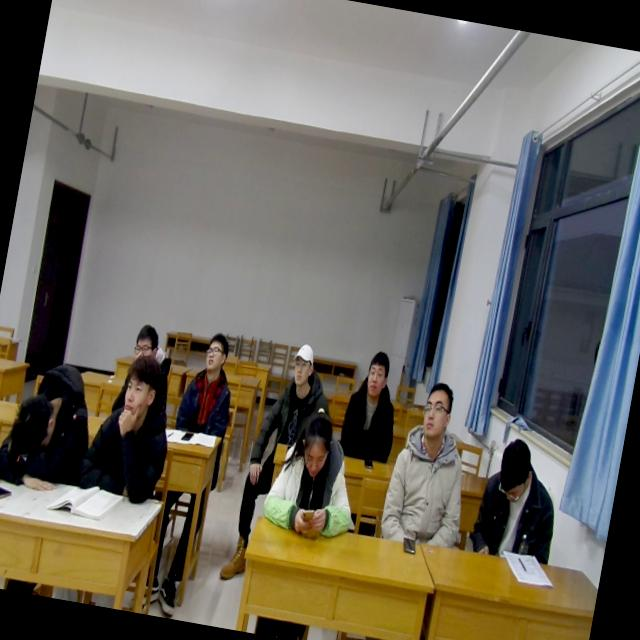bow: (0, 347, 103, 501)
down: (288, 400, 343, 482), (492, 432, 536, 508)
lookup: (111, 345, 166, 431), (412, 373, 459, 445), (284, 332, 322, 392), (358, 342, 394, 403), (194, 326, 232, 382), (130, 316, 164, 366)
sit: (376, 372, 486, 554), (69, 347, 183, 510), (257, 398, 372, 548), (467, 427, 570, 568), (336, 342, 412, 469), (258, 336, 340, 448), (172, 327, 244, 438), (120, 314, 178, 385)
